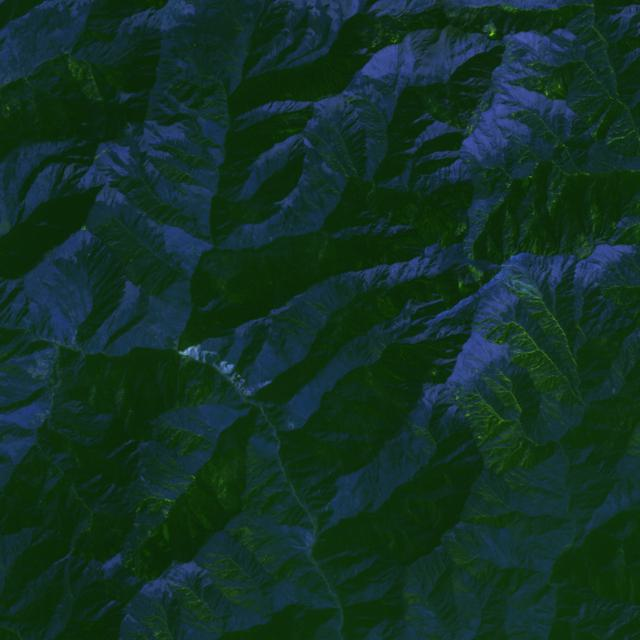landslides: (512, 280, 543, 301), (485, 321, 515, 338), (607, 129, 634, 145), (589, 100, 608, 121), (502, 263, 524, 274), (576, 73, 593, 86), (568, 98, 588, 108), (522, 173, 536, 186), (590, 44, 605, 54), (501, 230, 513, 242), (578, 325, 587, 341), (133, 0, 147, 10), (601, 162, 618, 170), (588, 38, 603, 47), (489, 225, 498, 239), (581, 24, 592, 35), (94, 150, 106, 160), (581, 92, 605, 97)
